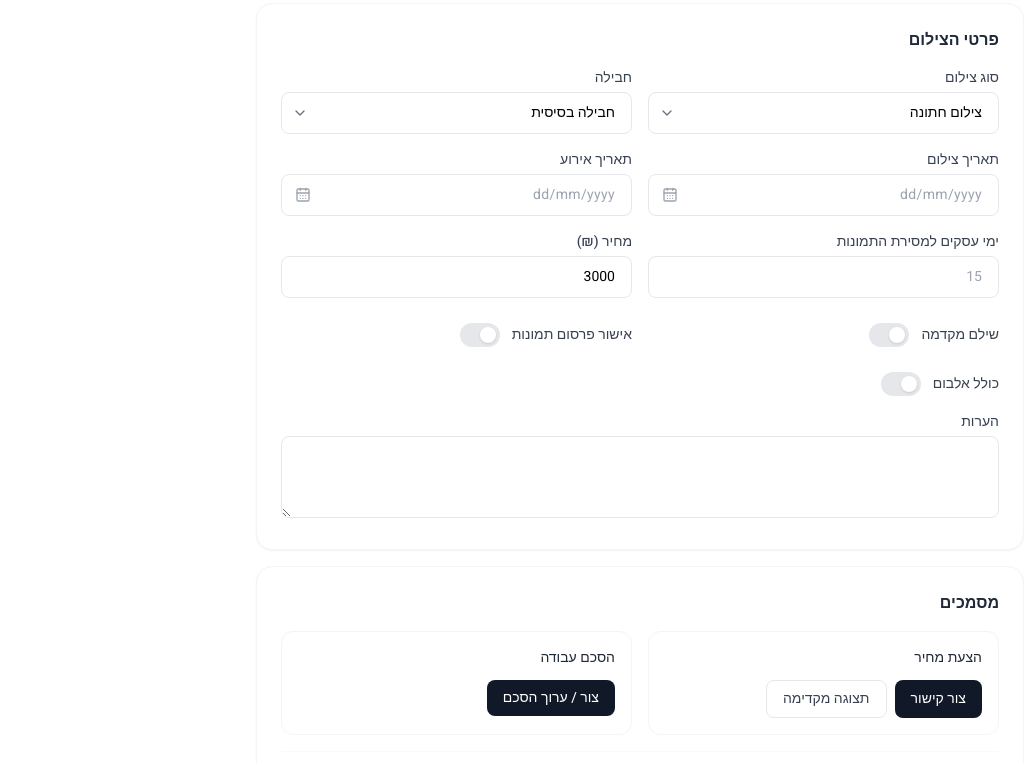
Test: ClientTicket › album toggle shows size and pages with defaults 30x30 / 30
The width and height of the screenshot is (1024, 763).
(page scrolled)
Check: the field with placeholder "30x30" is not shown
Click the switch named "החלף כולל אלבום".
click(901, 384)  # box [881,372,921,396]
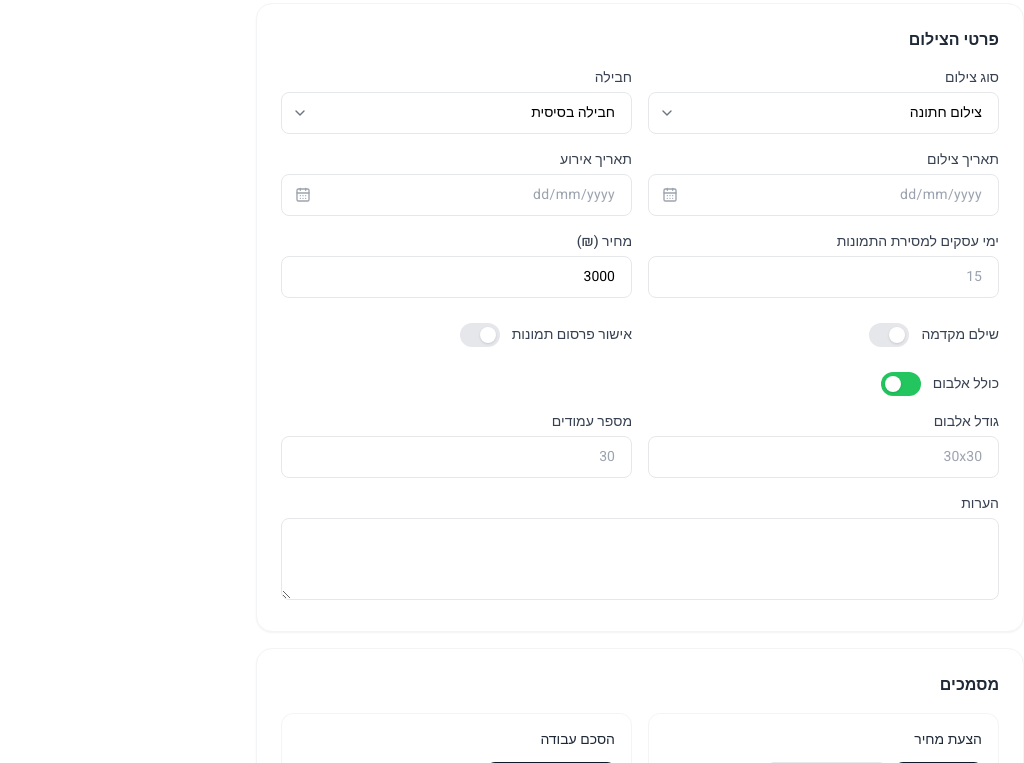
Check: the field with placeholder "30x30" is shown, box [648,436,999,478]
Check: the number field with placeholder "30" is shown, box [281,436,632,478]
